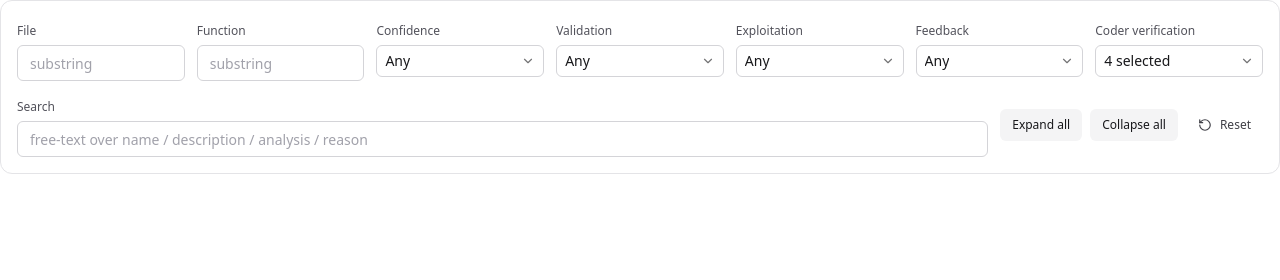
it: FilterBar › Coder verification chip group renders all six canonical statuses
This screenshot has width=1280, height=280.
Click the button with aria-label "Coder verification:" at x=1179, y=61, box [1095, 45, 1263, 77]
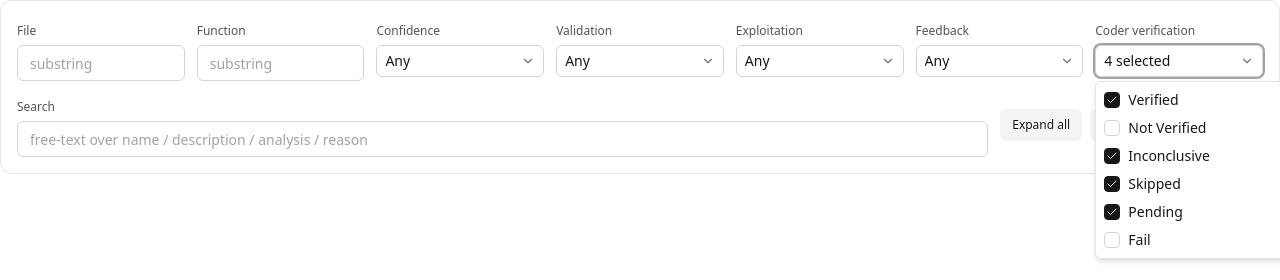
Expected: the text "Verified" is shown, [1128, 90, 1179, 110]
Expected: the text "Not Verified" is shown, [1128, 118, 1206, 138]
Expected: the text "Inconclusive" is shown, [1128, 146, 1210, 166]
